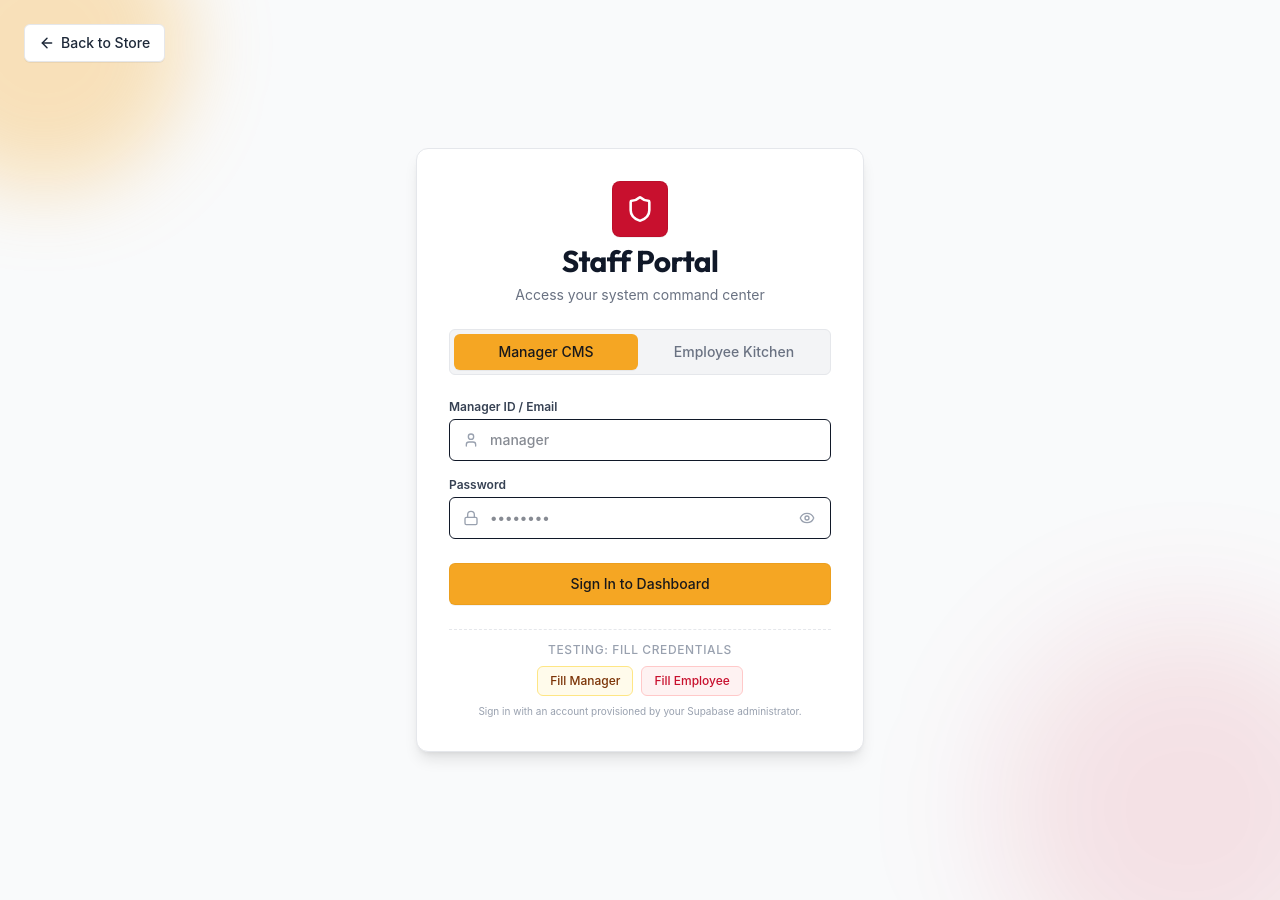
Test: StaffLogin › shows error when fields are empty
Click the button "Sign In to Dashboard": click(640, 584) [449,563,831,605]
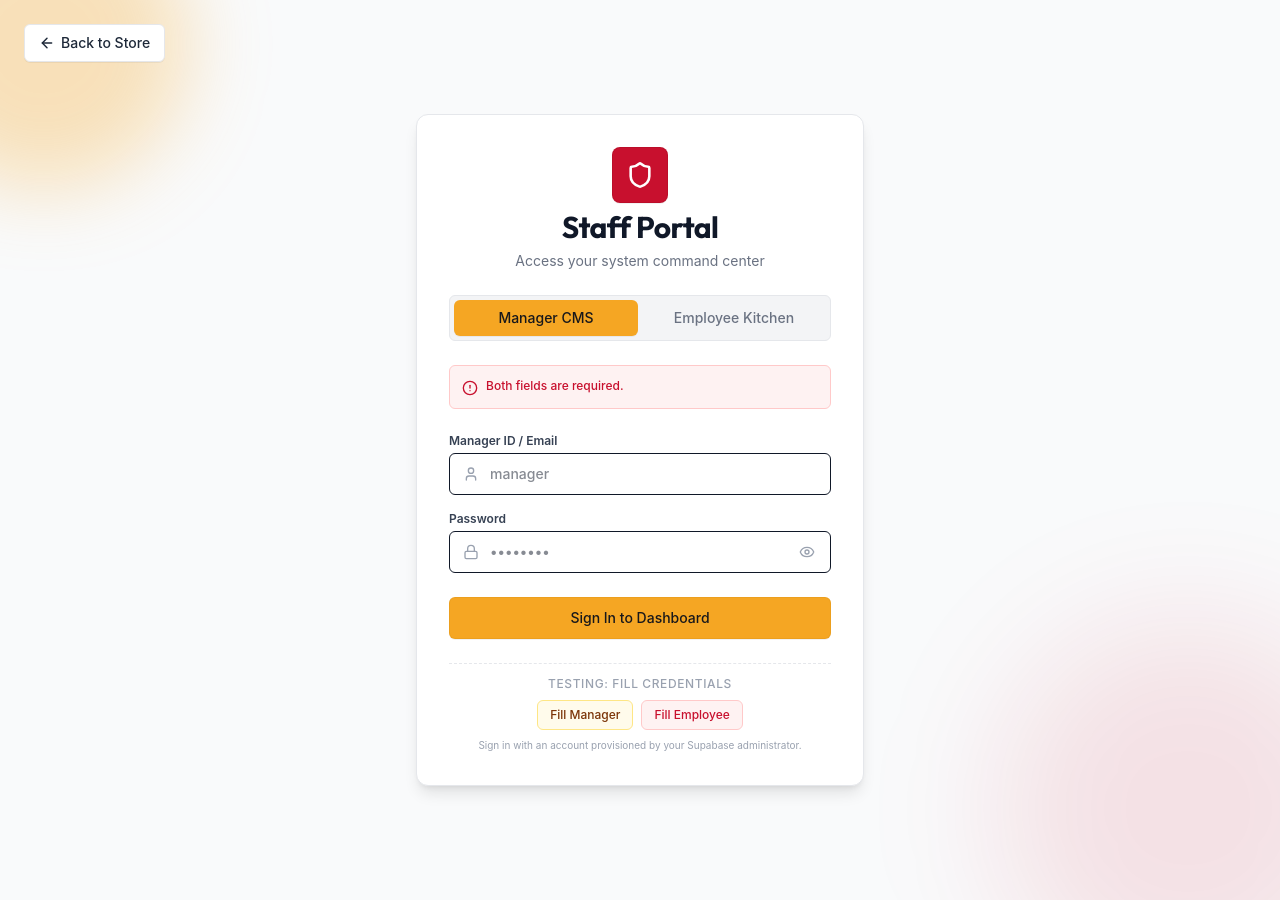
Check: the text "Both fields are required." is shown, box [486,378,624,394]
